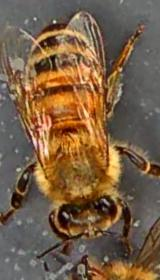varroa_mite: (33, 110, 64, 136)
